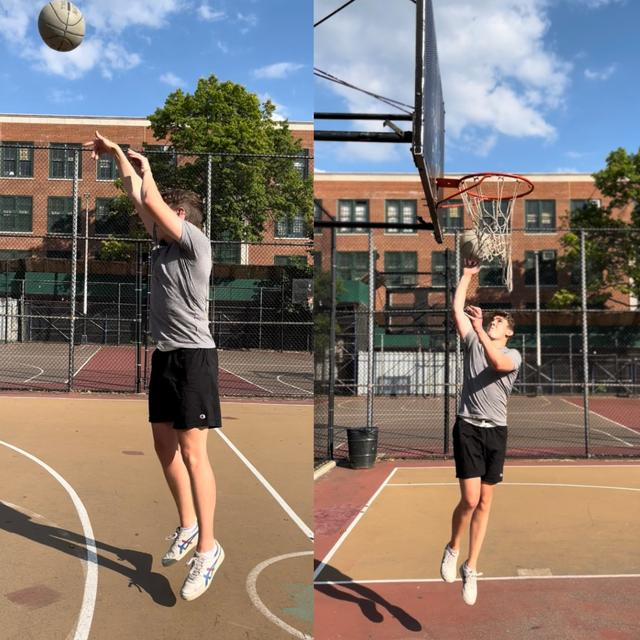basketball: (37, 0, 84, 51)
hoop: (459, 175, 536, 260)
